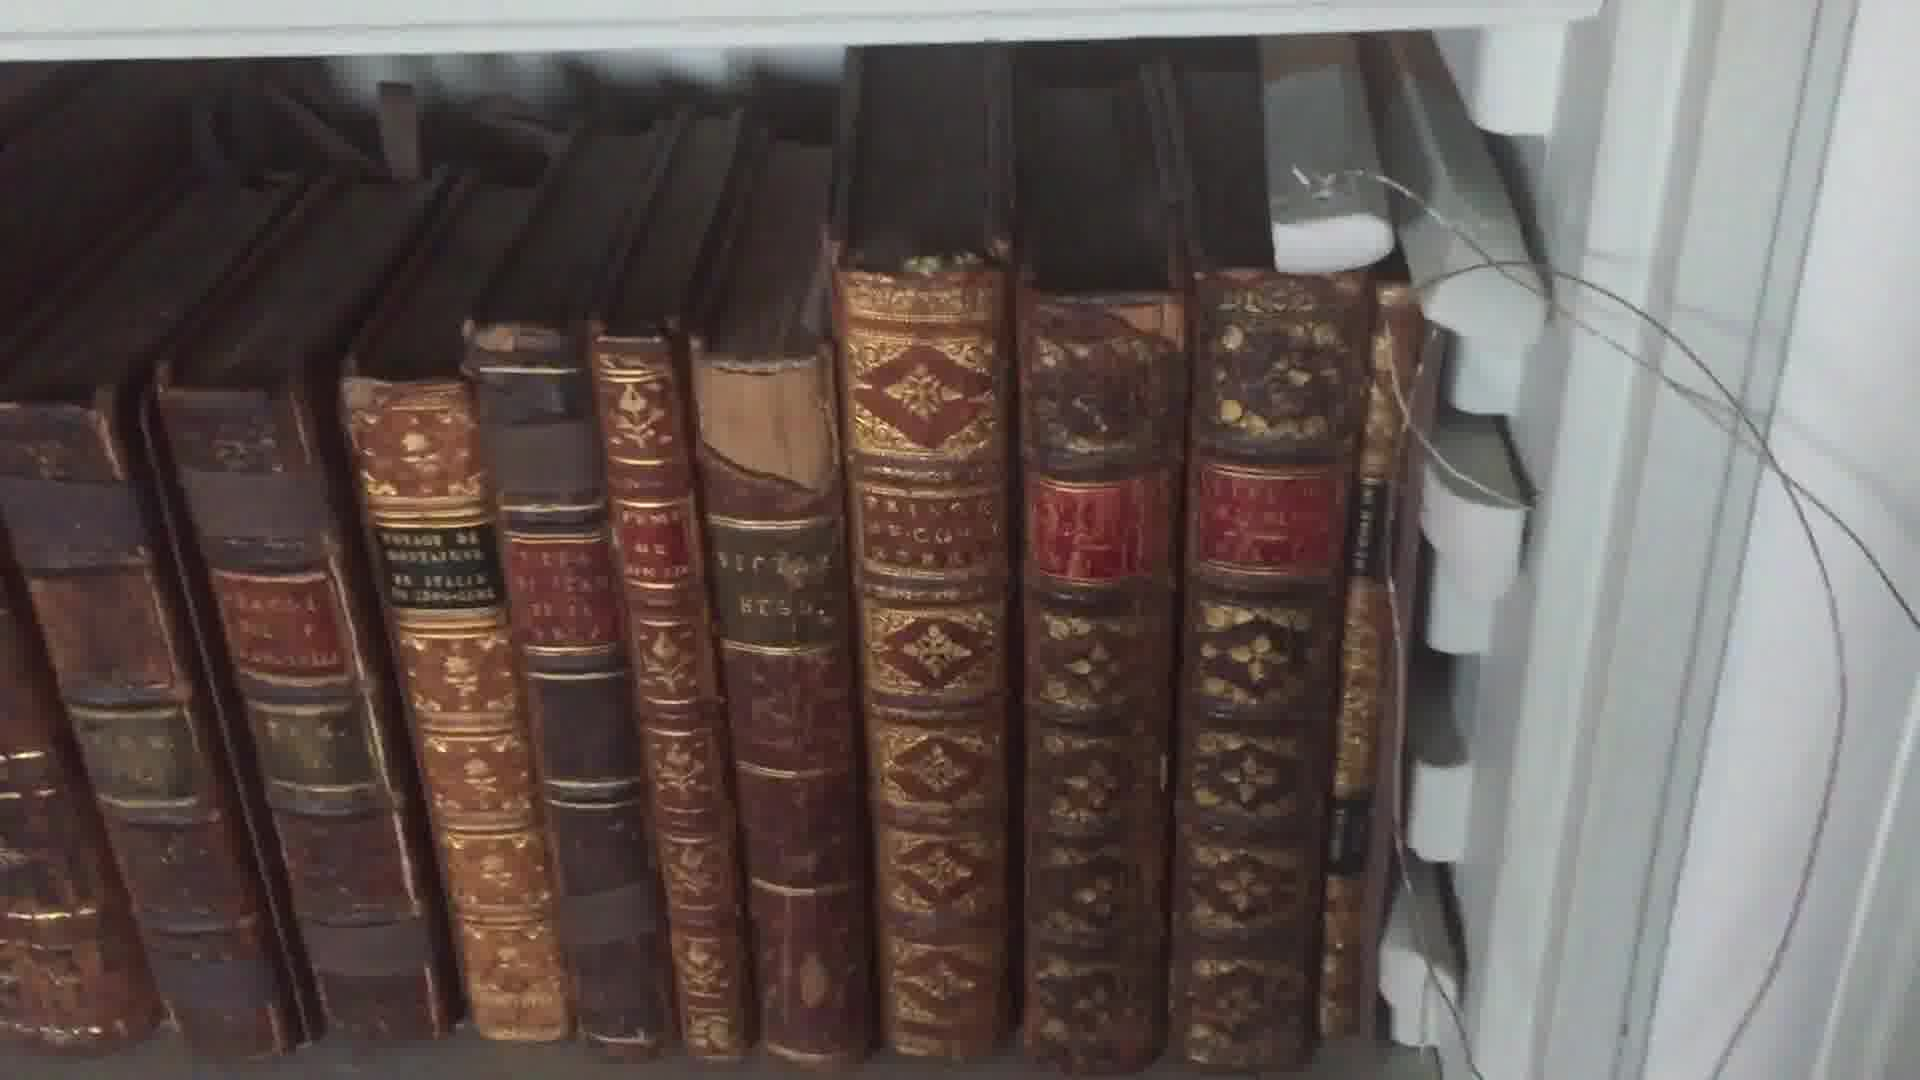Aa6-39_40: (9, 368, 468, 1054)
Aa6-41: (307, 339, 558, 1069)
Aa6-42: (446, 327, 692, 1063)
Aa6-43: (578, 339, 746, 1034)
Aa6-44: (687, 351, 876, 1054)
Aa6-45: (825, 241, 1019, 1058)
Aa6-46-47: (1021, 276, 1329, 1075)
Aa6-48: (1336, 273, 1379, 1068)
